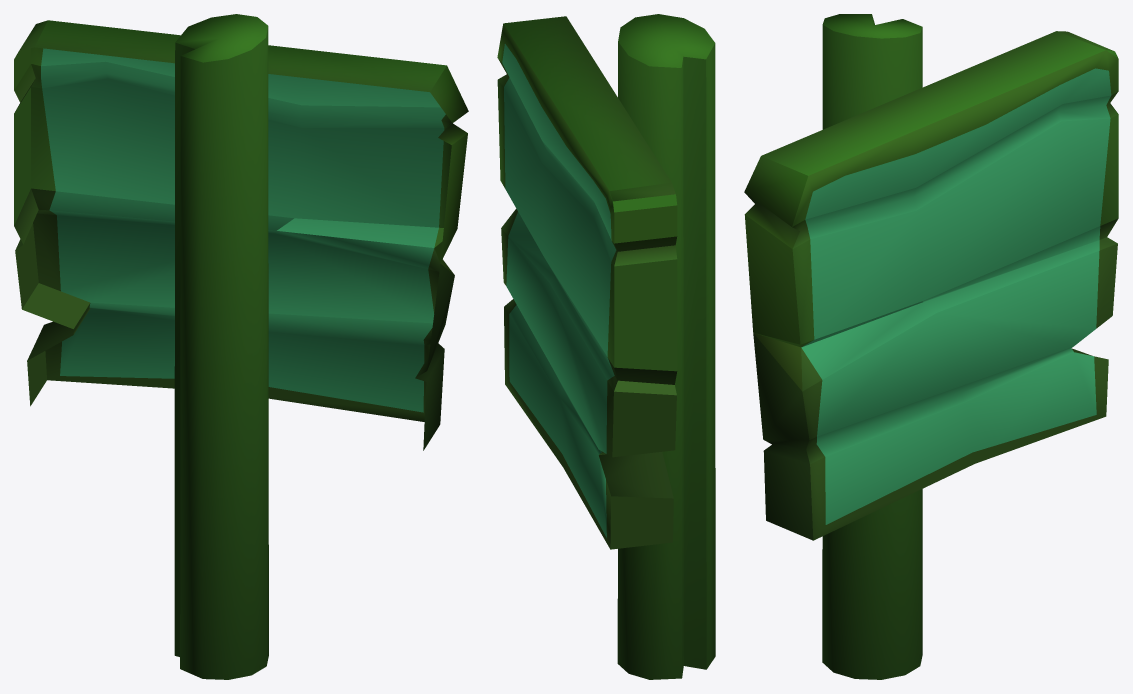
File: FarmExpansionSignpost.fbx
3 renders of one model, left to right at view 1: azimuth 30°, elevation 25°; view 2: azimuth 150°, elevation 25°; view 3: azimuth 270°, elevation 25°, orthographic. The views are drawn at different scales.
Parts seen in each view (by area): view 1: CoopSign; view 2: CoopSign; view 3: CoopSign.
Boxes of the visible parts, box(x1,y1,x2,y2) form: CoopSign: box(14, 14, 468, 679); CoopSign: box(497, 14, 715, 679); CoopSign: box(744, 14, 1118, 679).
Size of what is drawn, in the model's own units: 0.8112 by 1.54 by 0.8123.
